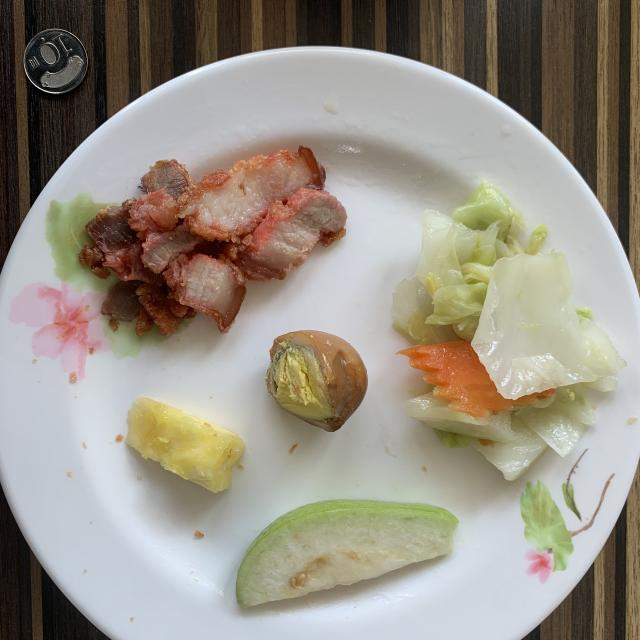cabbage: (392, 180, 626, 480)
coin: (24, 29, 88, 94)
guava -sliced-: (236, 500, 458, 606)
pineapple: (125, 396, 245, 492)
red grilled pork: (80, 146, 346, 335)
soy egg: (265, 330, 368, 431)
